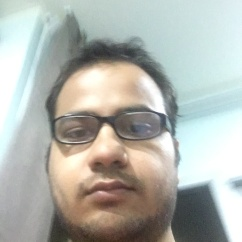glasses: (49, 111, 171, 143)
